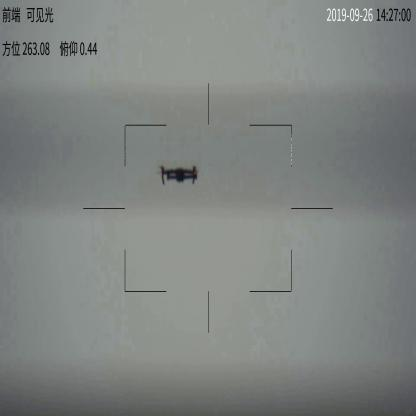uav: (154, 164, 202, 188)
